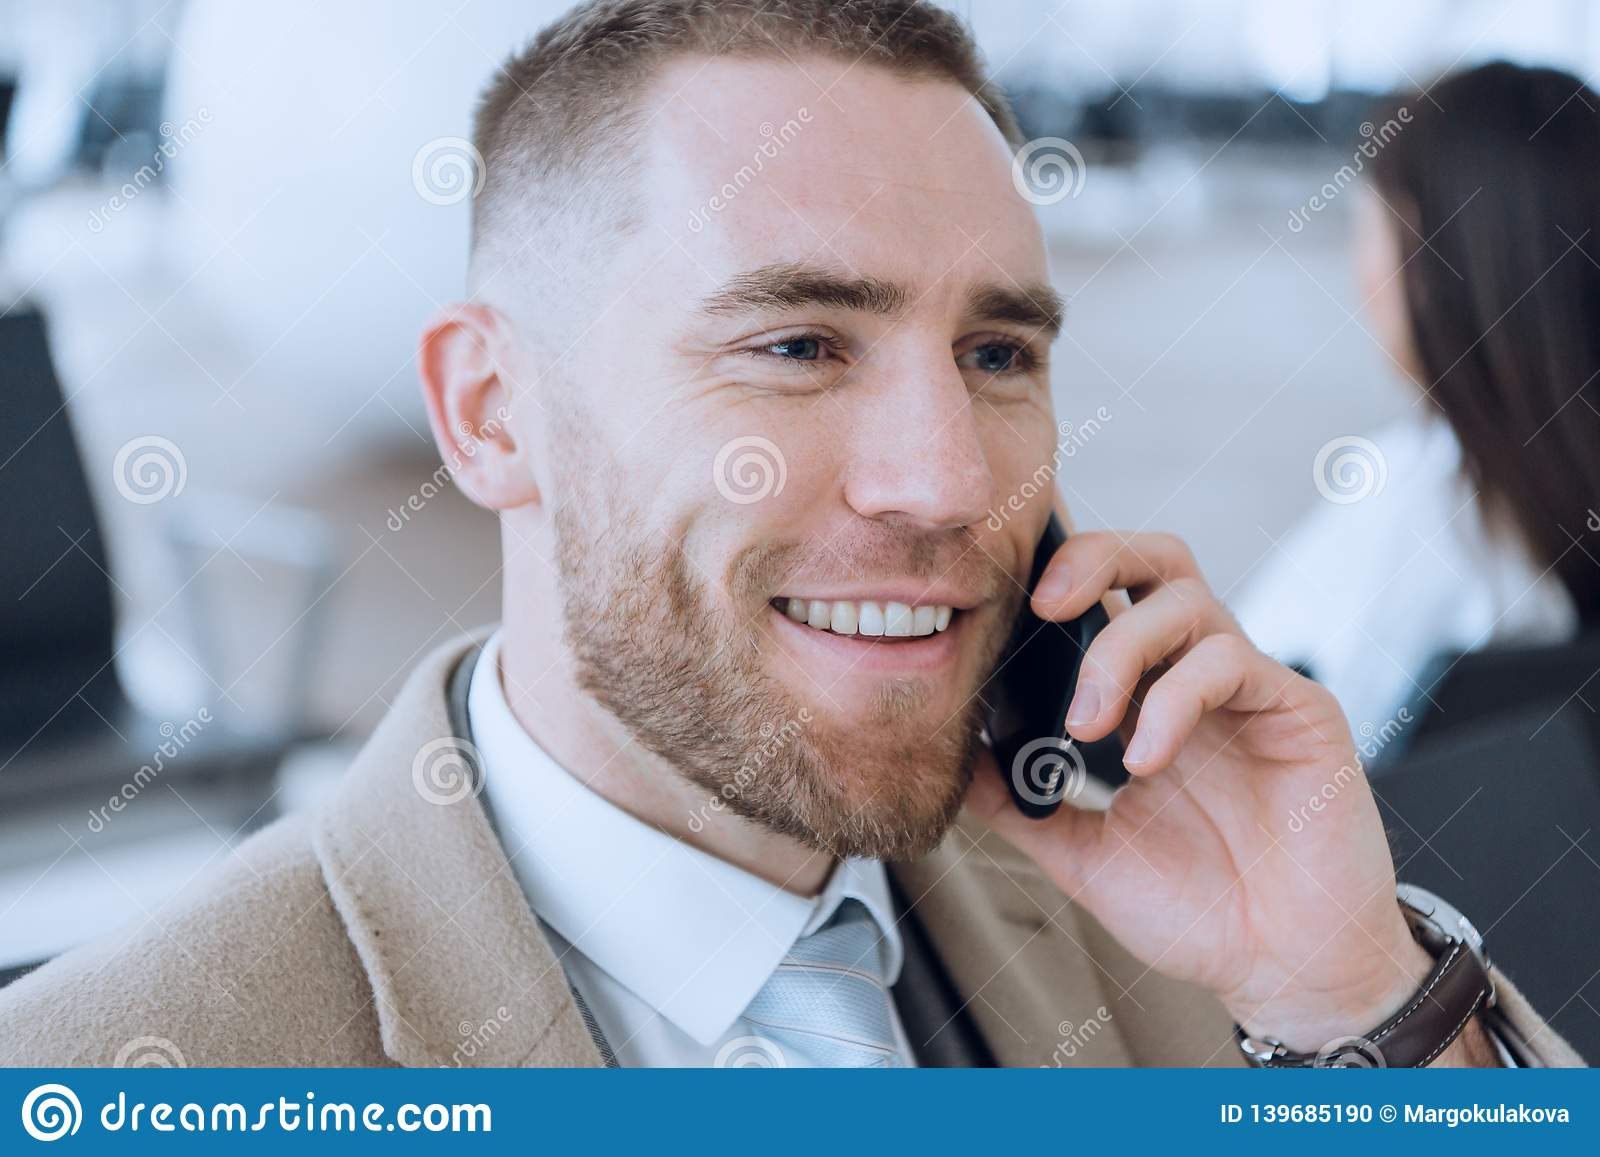phone: (993, 503, 1114, 820)
talk: (636, 239, 1412, 1053)
